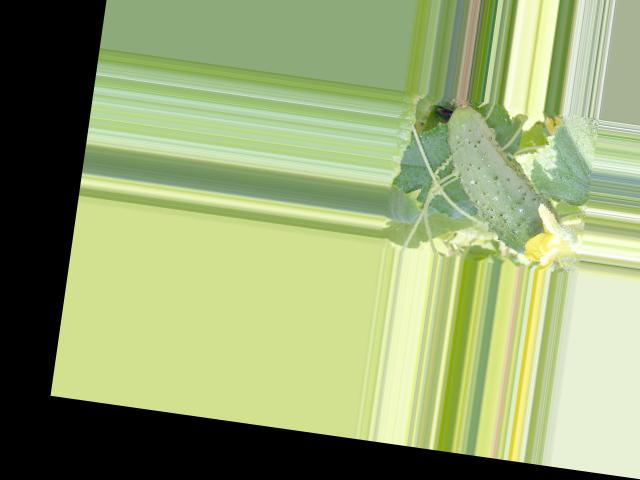cucumber: (430, 96, 575, 258)
